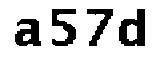5: (47, 4, 79, 49)
7: (84, 5, 115, 50)
a: (11, 18, 43, 49)
d: (118, 6, 148, 50)
